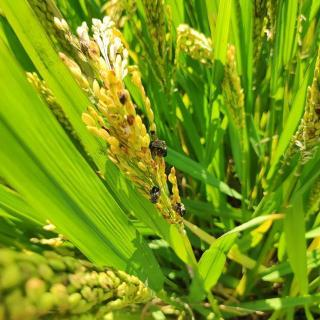Gosong-Palsu: (149, 138, 169, 158), (147, 185, 163, 203), (171, 201, 187, 217)
